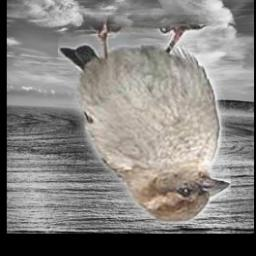Sparrow: (59, 16, 232, 225)
